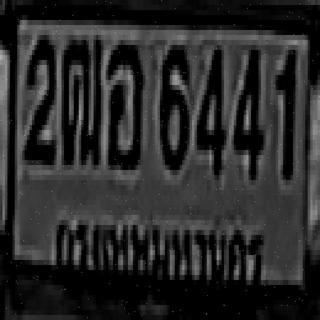A18: (59, 35, 101, 160)
A43: (106, 40, 140, 165)
N01: (273, 45, 293, 175)
N02: (24, 32, 53, 158)
N04: (232, 45, 261, 175), (196, 42, 223, 172)
N06: (158, 40, 187, 165)
P04: (48, 208, 268, 297)
